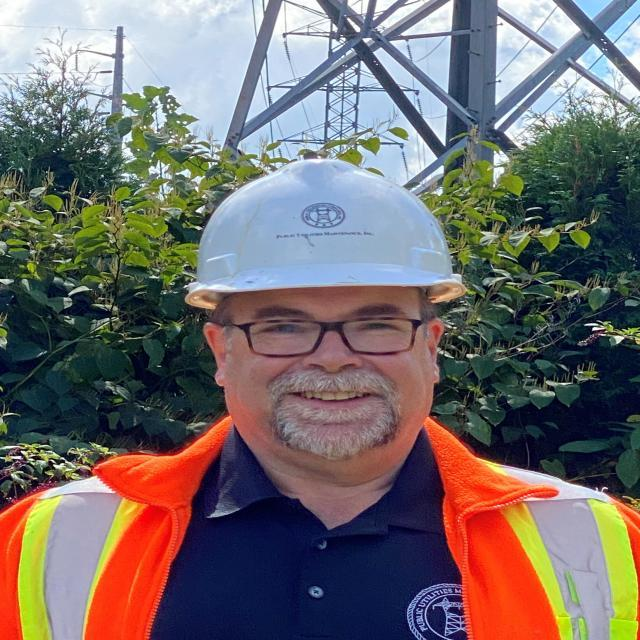hat: (187, 158, 462, 308)
